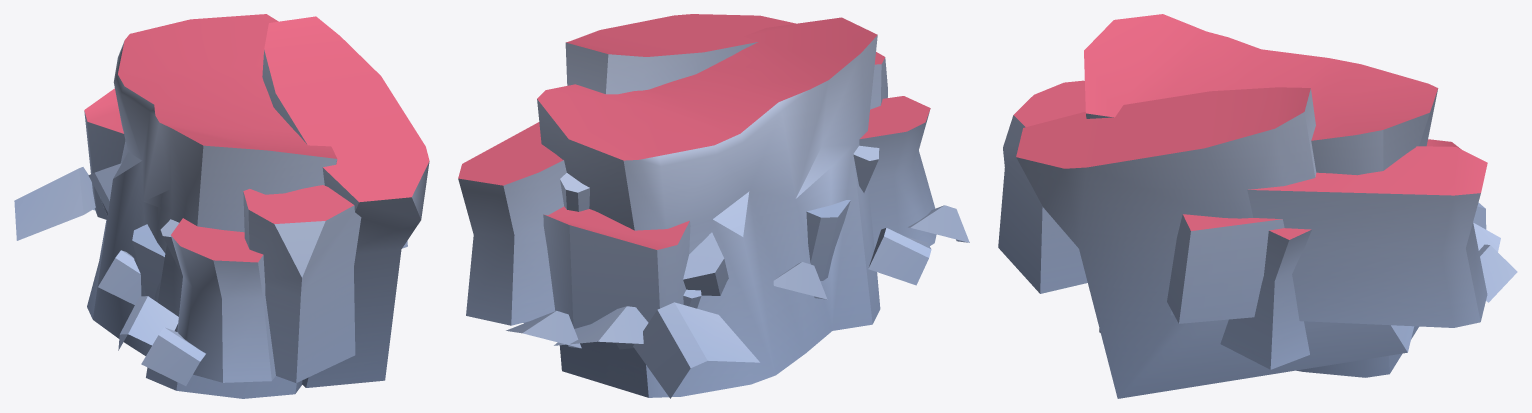
Rendered from mdl_Tuto_Rock.fbx.
The picture shows the model from 3 angles, left to right: view 1: azimuth 30°, elevation 25°; view 2: azimuth 150°, elevation 25°; view 3: azimuth 270°, elevation 25°; orthographic projection. The views are drawn at different scales.
Parts seen in each view (by area): view 1: mdl_Tuto_Rock; view 2: mdl_Tuto_Rock; view 3: mdl_Tuto_Rock.
Part boxes in pixels (x1,y1,x2,y2): mdl_Tuto_Rock: (14, 14, 429, 398); mdl_Tuto_Rock: (458, 14, 969, 398); mdl_Tuto_Rock: (998, 14, 1517, 398).
Bounding box in the file's own units: 19.81 × 17.7 × 27.77.
